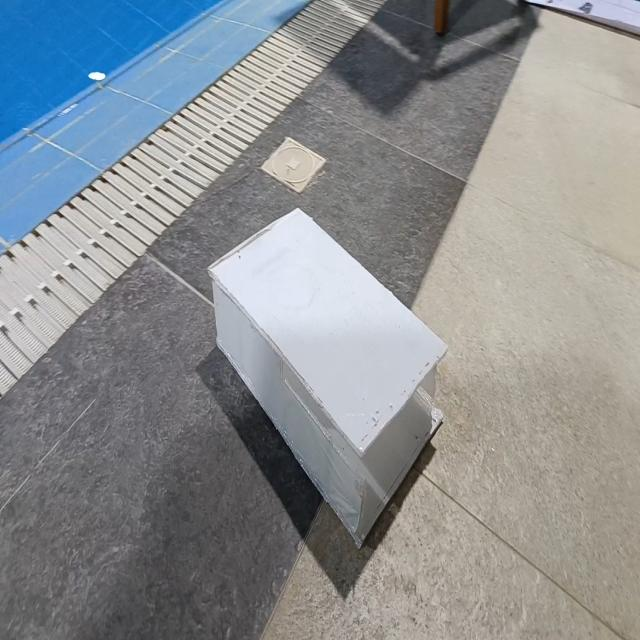Cuboid: (206, 205, 449, 550)
